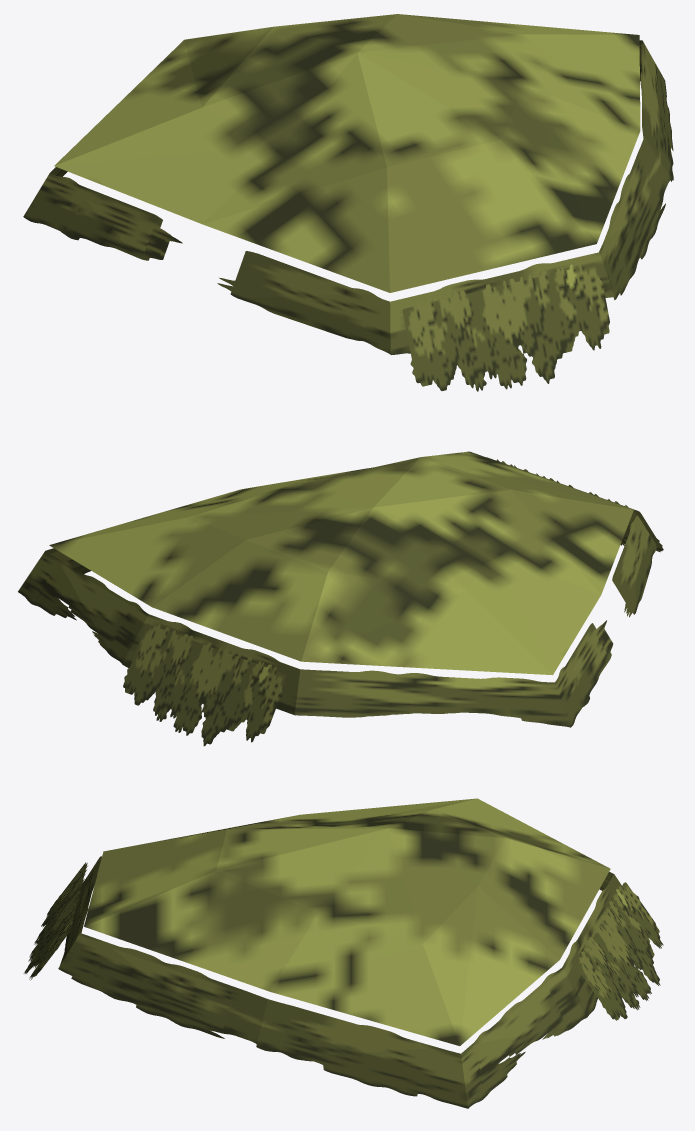
Rendered from SM_VG18_MossCap.fbx.
3 views of the same model, one above another, from view 1: azimuth 30°, elevation 25°; view 2: azimuth 150°, elevation 25°; view 3: azimuth 270°, elevation 25° (orthographic). The views are drawn at different scales.
Parts seen in each view (by area): view 1: VG18_Moss; view 2: VG18_Moss; view 3: VG18_Moss.
Boxes of the visible parts, x1=… form: VG18_Moss: x1=23, y1=14, x2=673, y2=391; VG18_Moss: x1=18, y1=451, x2=663, y2=746; VG18_Moss: x1=23, y1=798, x2=663, y2=1108.
Bounding box in the file's own units: 0.6401 × 0.176 × 0.6568.
